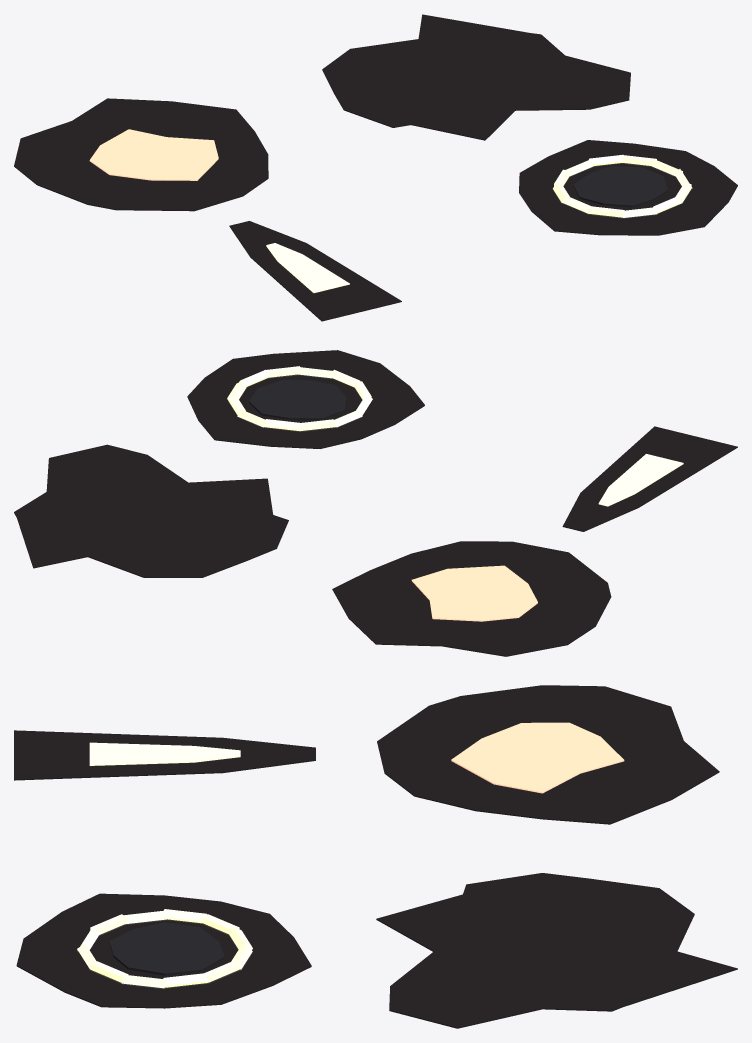
File: FX_AegisScorch.fbx
The picture shows the model from 3 angles, top to bottom: view 1: azimuth 30°, elevation 25°; view 2: azimuth 150°, elevation 25°; view 3: azimuth 270°, elevation 25°; orthographic projection. The views are drawn at different scales.
Parts seen in each view (by area): view 1: Scorch_Splat.001, Scorch_Round.001, Scorch_Crater.001, Scorch_BurnStreak.001, Scorch_RoundEmbers.001, Scorch_CraterPit.001, Scorch_CraterEmbers.001, Scorch_BurnStreakEmbers.001; view 2: Scorch_Splat.001, Scorch_Round.001, Scorch_Crater.001, Scorch_BurnStreak.001, Scorch_RoundEmbers.001, Scorch_CraterPit.001, Scorch_CraterEmbers.001, Scorch_BurnStreakEmbers.001; view 3: Scorch_Splat.001, Scorch_Round.001, Scorch_Crater.001, Scorch_BurnStreak.001, Scorch_RoundEmbers.001, Scorch_CraterPit.001, Scorch_CraterEmbers.001, Scorch_BurnStreakEmbers.001.
Part boxes in pixels (<box>): Scorch_Splat.001: <box>322,14,630,140</box>; Scorch_Round.001: <box>14,98,268,211</box>; Scorch_Crater.001: <box>519,140,737,235</box>; Scorch_BurnStreak.001: <box>229,221,401,321</box>; Scorch_RoundEmbers.001: <box>89,129,218,180</box>; Scorch_CraterPit.001: <box>573,166,667,207</box>; Scorch_CraterEmbers.001: <box>553,154,692,217</box>; Scorch_BurnStreakEmbers.001: <box>266,243,349,292</box>; Scorch_Splat.001: <box>14,444,288,577</box>; Scorch_Round.001: <box>332,541,611,656</box>; Scorch_Crater.001: <box>187,350,424,448</box>; Scorch_BurnStreak.001: <box>562,426,737,531</box>; Scorch_RoundEmbers.001: <box>411,565,537,621</box>; Scorch_CraterPit.001: <box>249,379,346,419</box>; Scorch_CraterEmbers.001: <box>227,366,372,431</box>; Scorch_BurnStreakEmbers.001: <box>598,454,683,506</box>; Scorch_Splat.001: <box>376,873,737,1028</box>; Scorch_Round.001: <box>377,685,719,824</box>; Scorch_Crater.001: <box>16,893,311,1008</box>; Scorch_BurnStreak.001: <box>14,730,315,780</box>; Scorch_RoundEmbers.001: <box>451,722,624,793</box>; Scorch_CraterPit.001: <box>109,922,224,975</box>; Scorch_CraterEmbers.001: <box>77,909,252,988</box>; Scorch_BurnStreakEmbers.001: <box>89,742,240,765</box>.
Size of the model in its own units: 1.4 by 0.0232 by 1.25.
